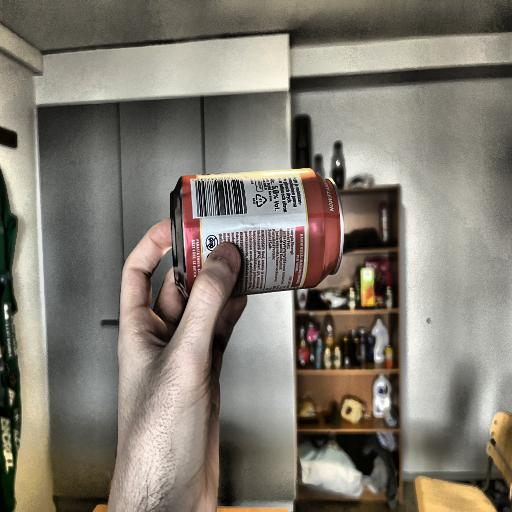koff: (170, 166, 339, 293)
